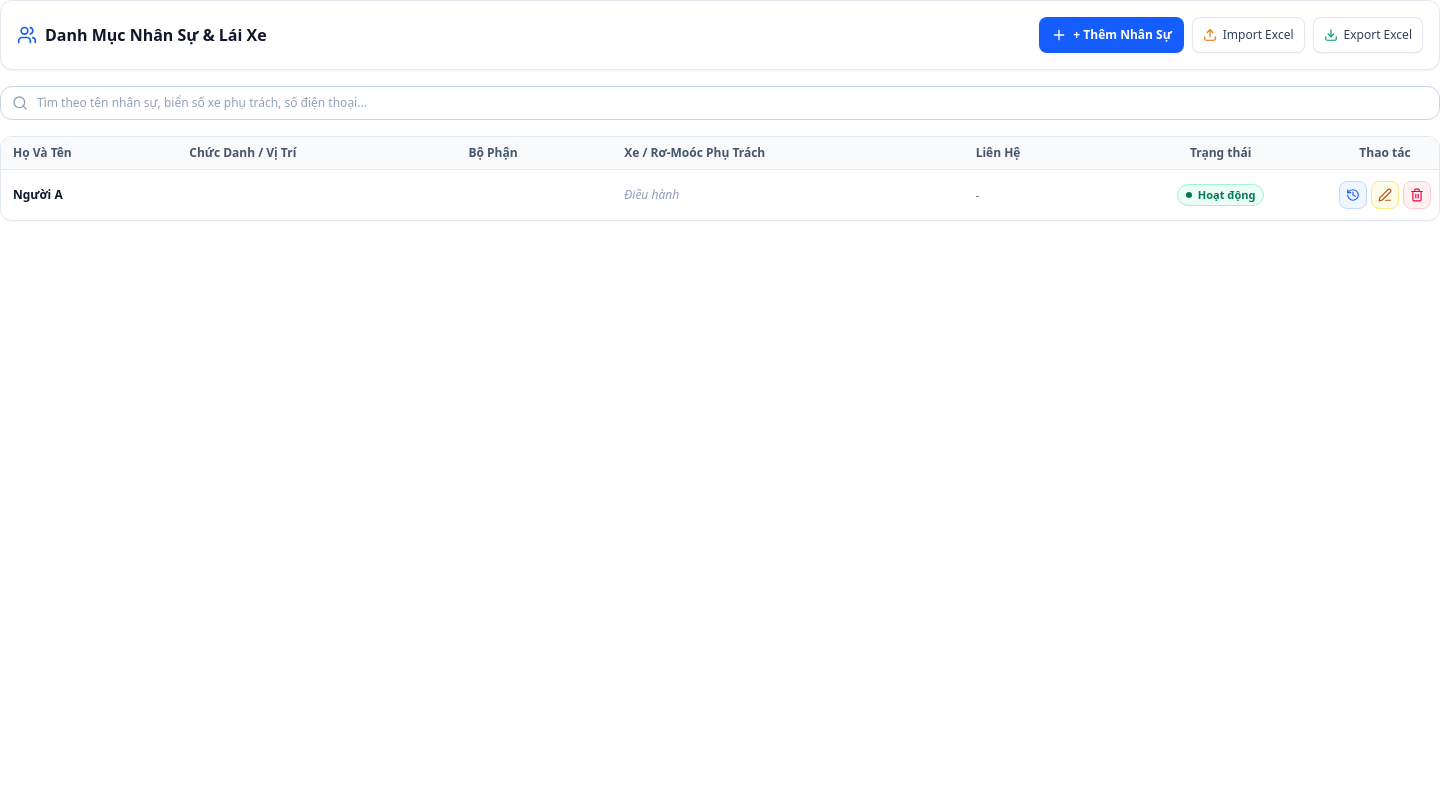
original personnel form stays open when the server rejects an edit
This screenshot has width=1440, height=810.
Expected: the text "Người A" is shown, [1,170,177,220]
Click the button titled "Sửa": (1385, 195) [1371,181,1399,209]
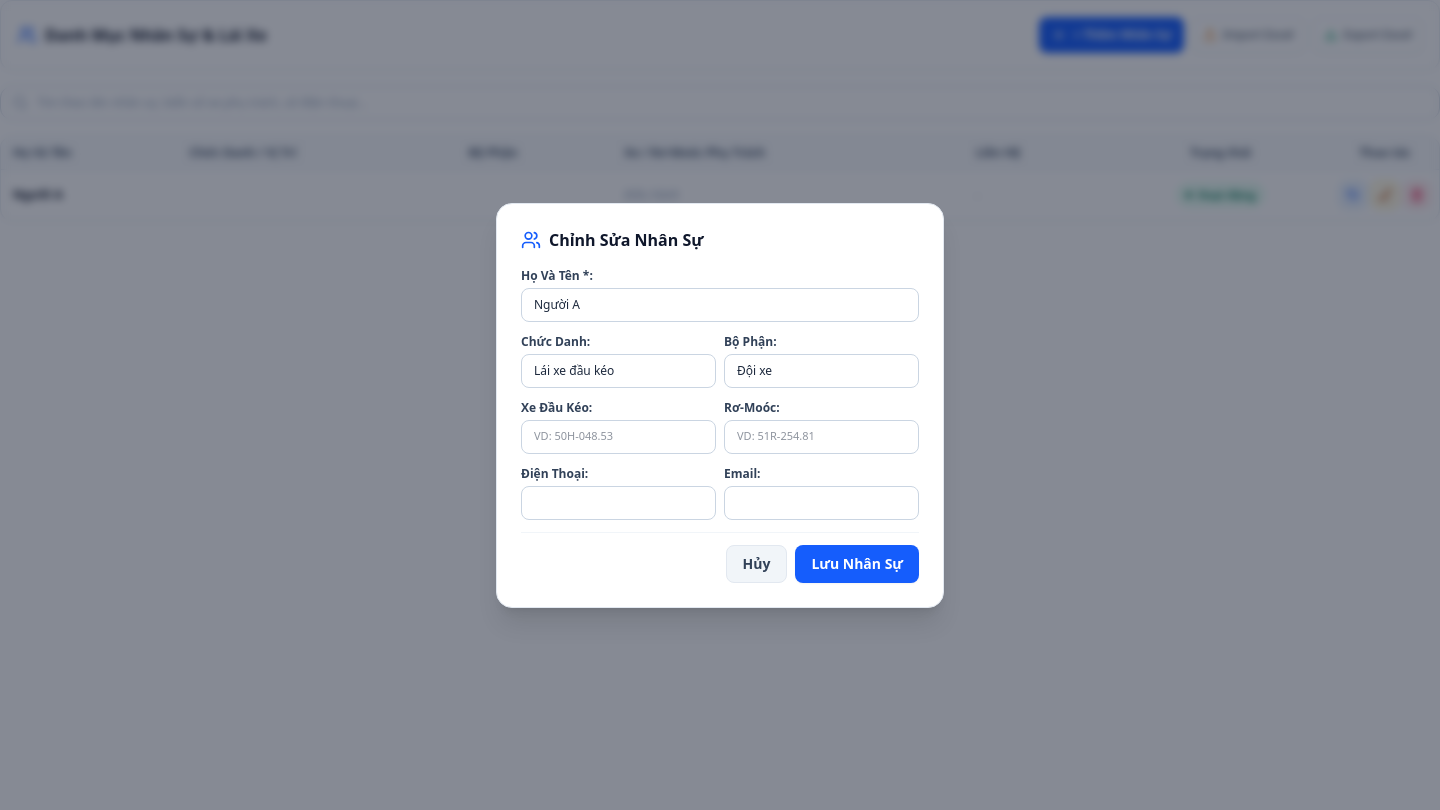
Replace the text in the field named "staffName" below "Họ Và Tên *:" with "Chưa lưu": (720, 304) [521,288,919,322]
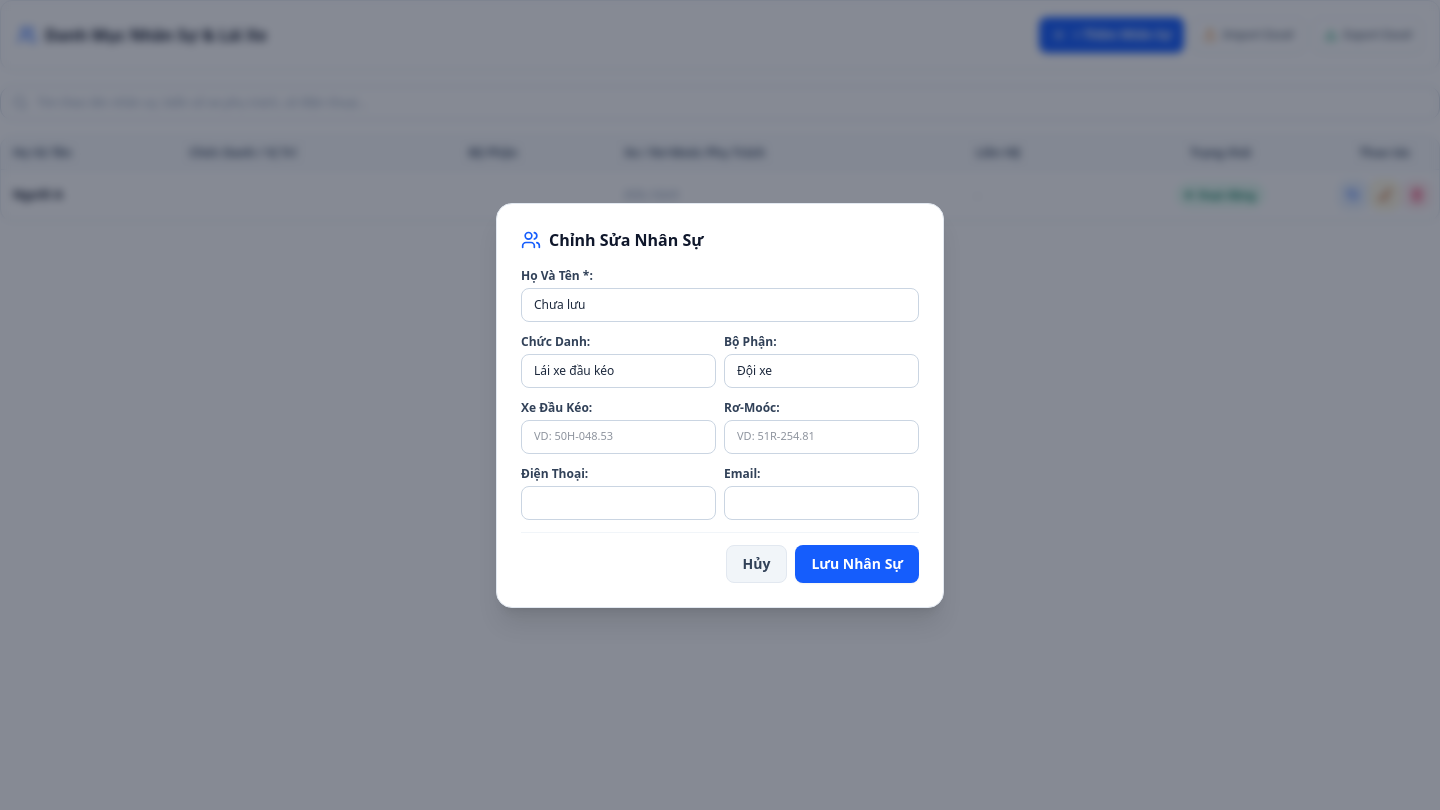
Submit the form named "staffName", box [521,268,919,582]
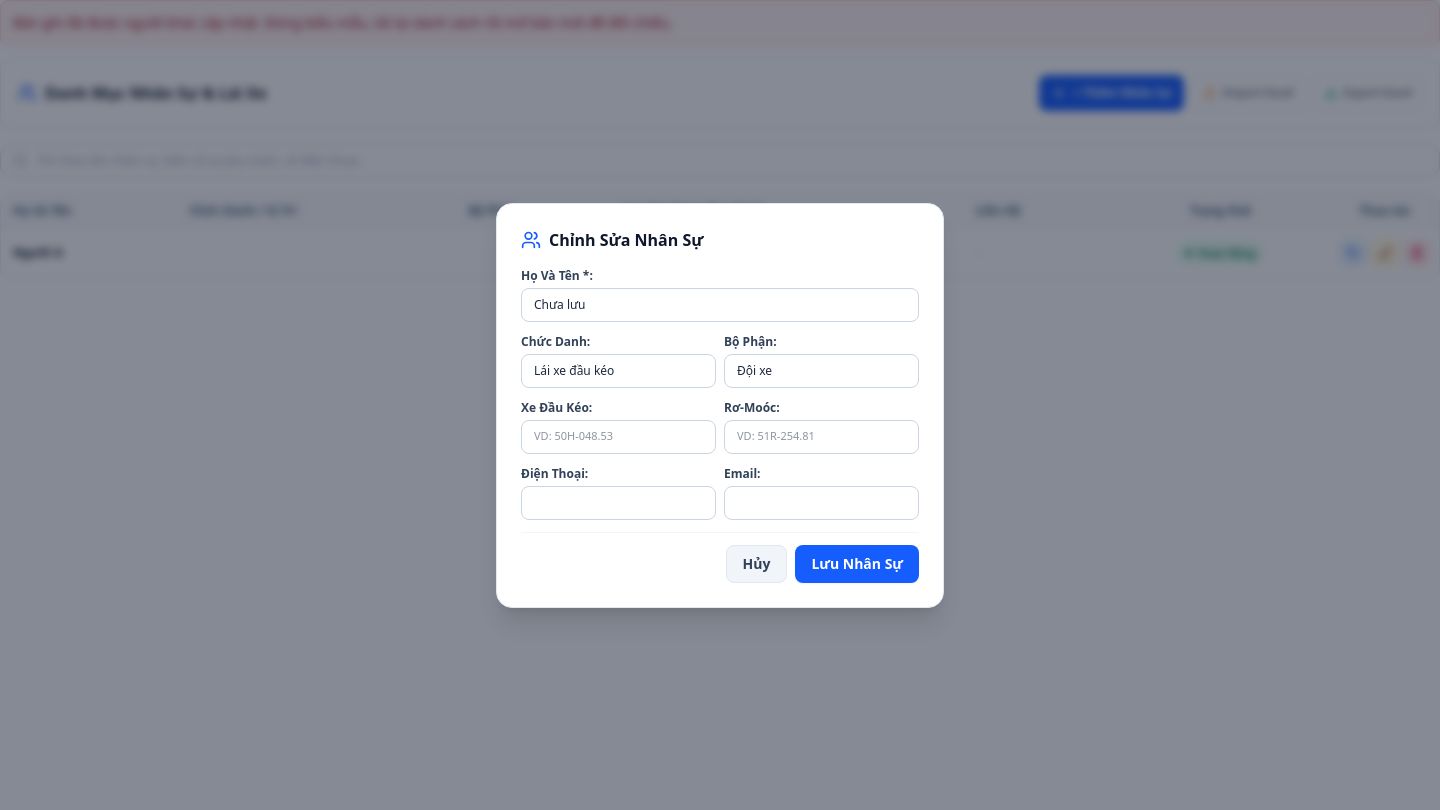
Now the text "Bản ghi đã được người khác cập nhật" is shown, box [13,13,672,32]
